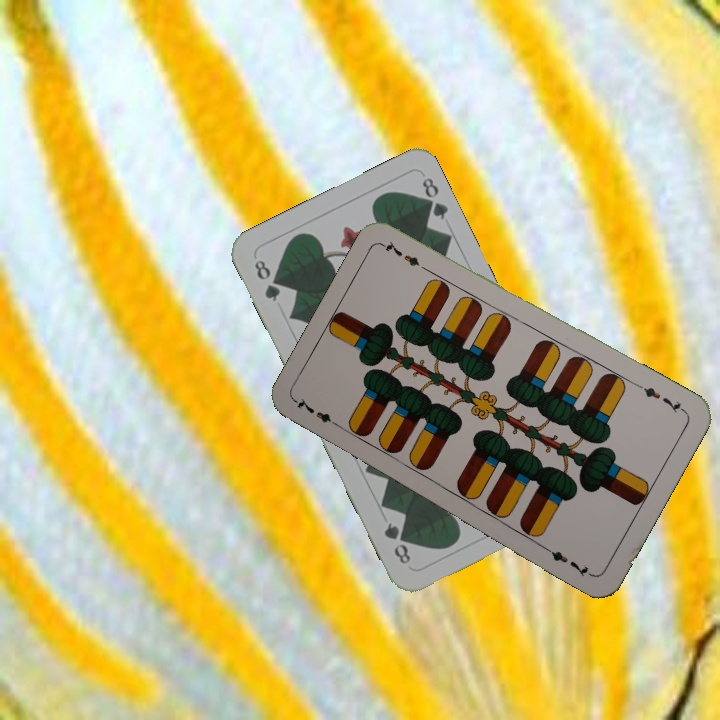E7: (292, 394, 346, 431), (634, 381, 688, 416)
G8: (250, 255, 283, 305)
